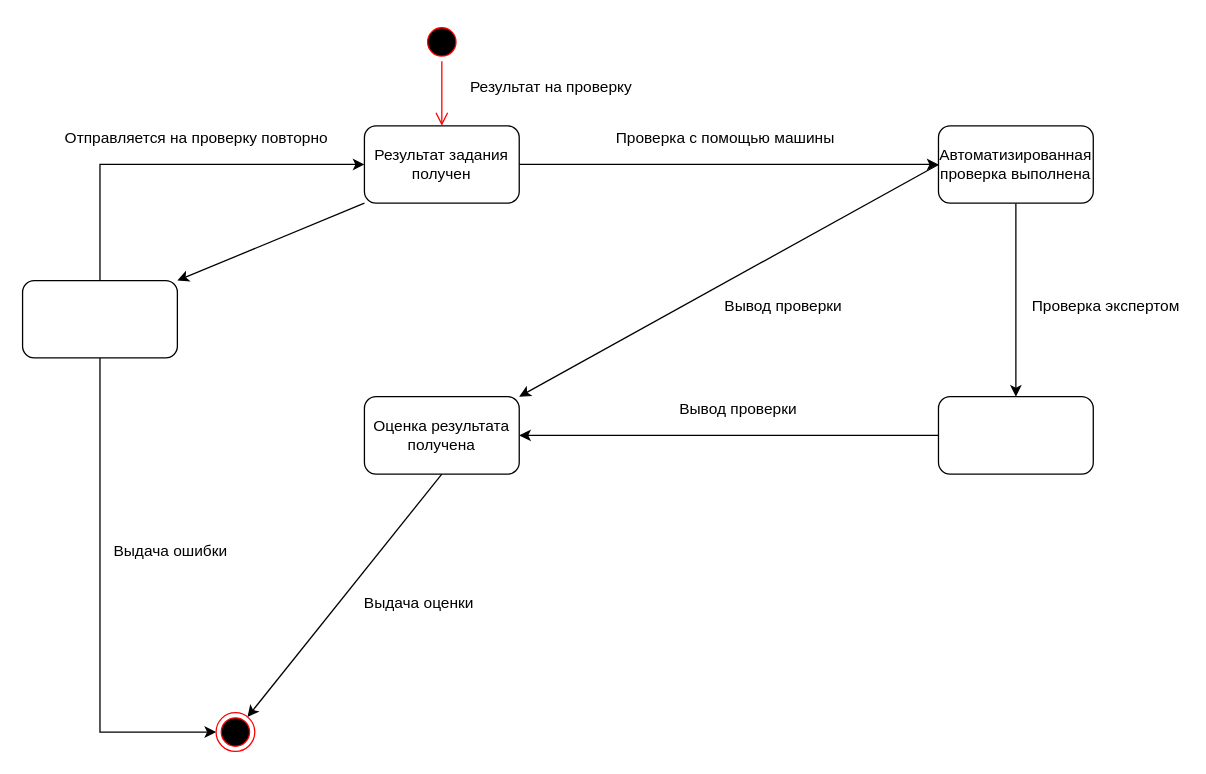
Some shapes in this 1206 by 774 pixel diagram are drawn without their labels. Each missing label, with the centre of its shape:
"Получена ошибка" goes at (99,318).
"Проверка экспертом выполнена" goes at (1015,434).
